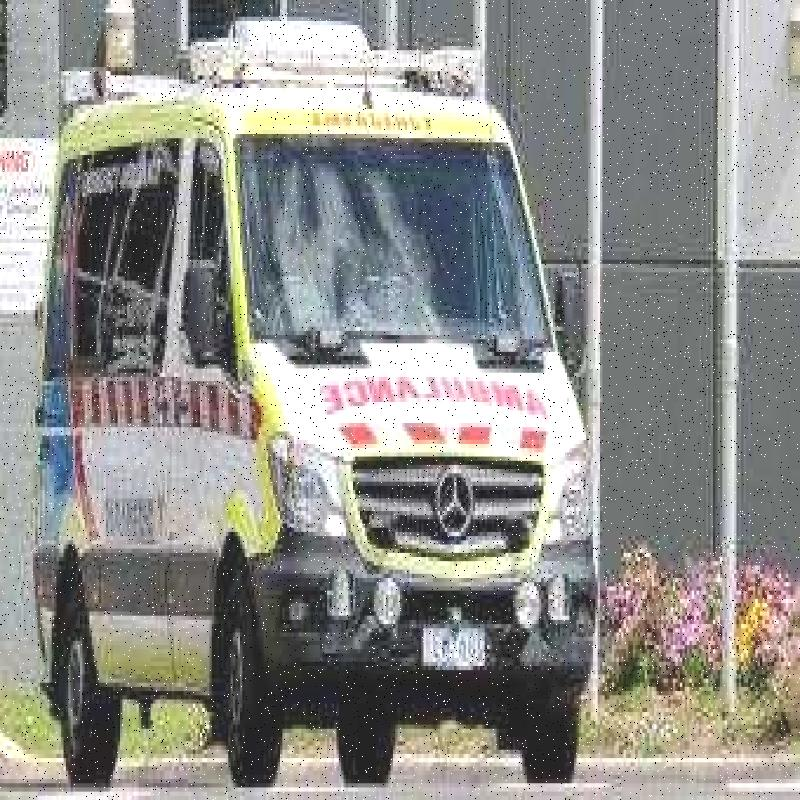AmbulanceSiren: (208, 44, 485, 97)
